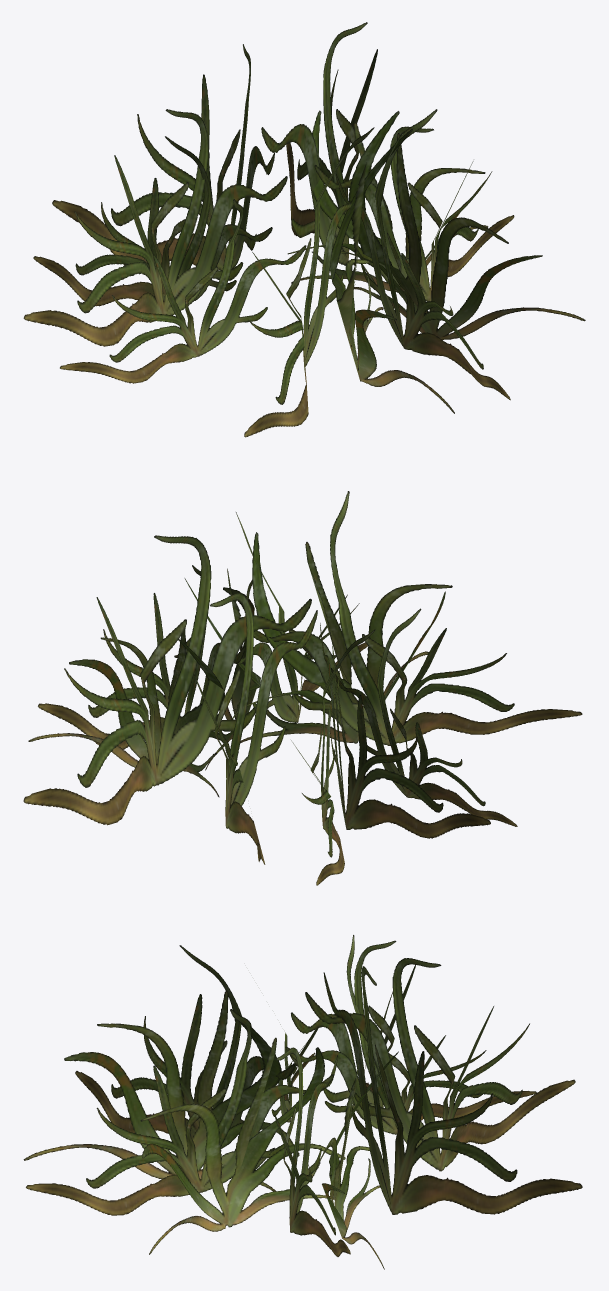
Rendered from Grass_Low.fbx.
The picture shows the model from 3 angles, top to bottom: view 1: azimuth 30°, elevation 25°; view 2: azimuth 150°, elevation 25°; view 3: azimuth 270°, elevation 25°; orthographic projection. The views are drawn at different scales.
Parts seen in each view (by area): view 1: Grass_Low; view 2: Grass_Low; view 3: Grass_Low.
Part boxes in pixels (x1,y1,x2,y2): Grass_Low: (23,22,585,437); Grass_Low: (23,491,582,885); Grass_Low: (23,935,582,1269).
Bounding box in the file's own units: 0.4226 × 0.22 × 0.45.
1 material, 1 textured.
